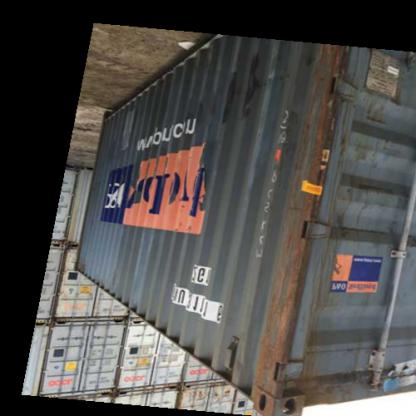Damage: (259, 252, 341, 410), (326, 205, 362, 251), (356, 105, 394, 134), (180, 200, 198, 238), (392, 90, 406, 107)
